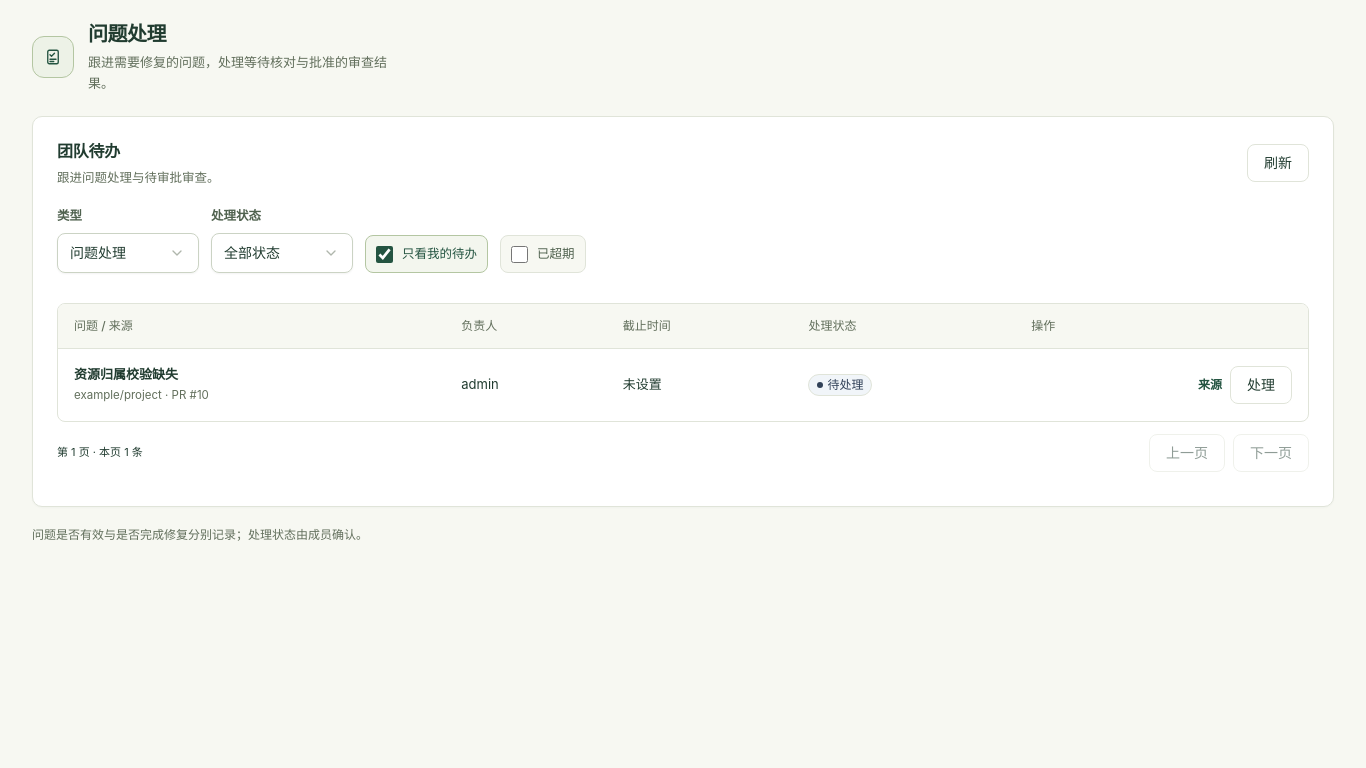
Test case: 工作项冲突保留处理说明和原版本，避免覆盖别人修改
Click the button "处理" at point(1261, 385), box [1230,366,1292,404]
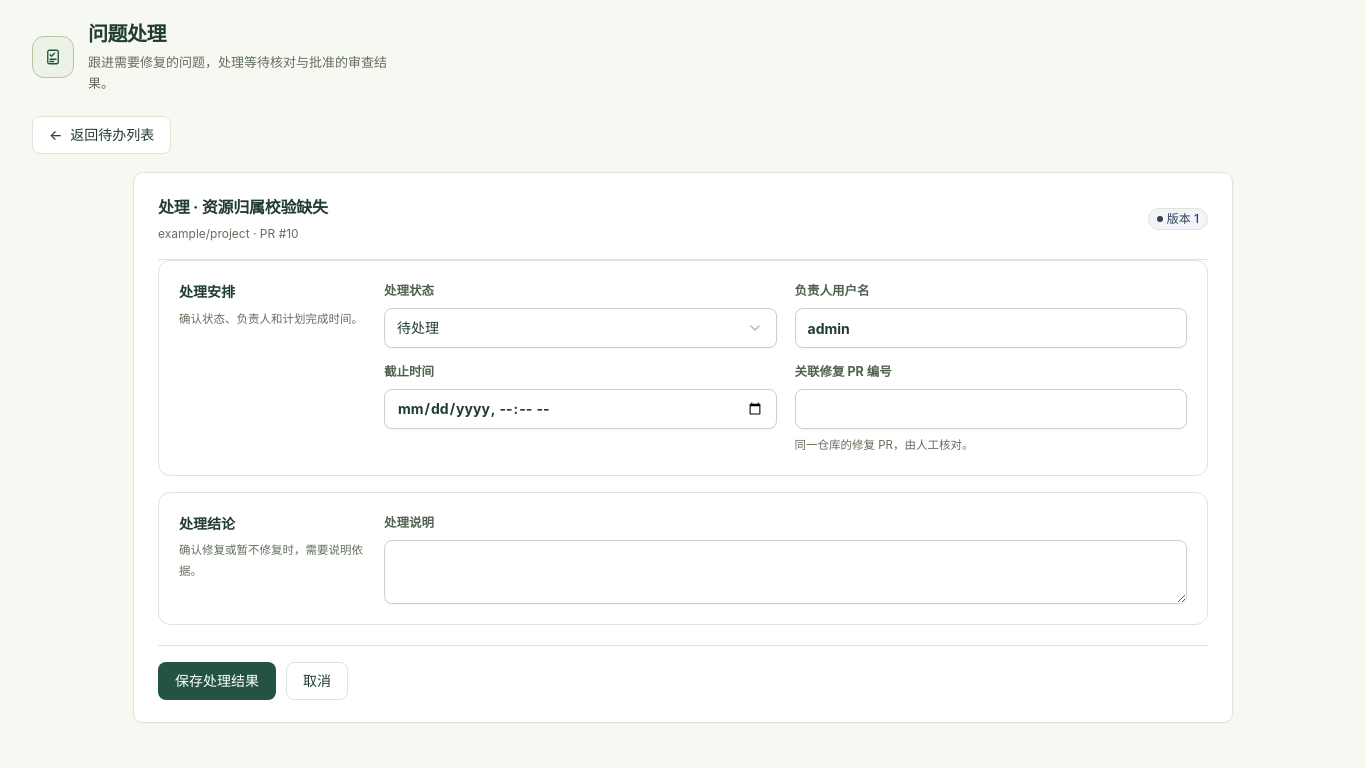
Type "正在核查事务边界" into the text box labelled "处理说明" at point(786, 572), box [384,540,1187,604]
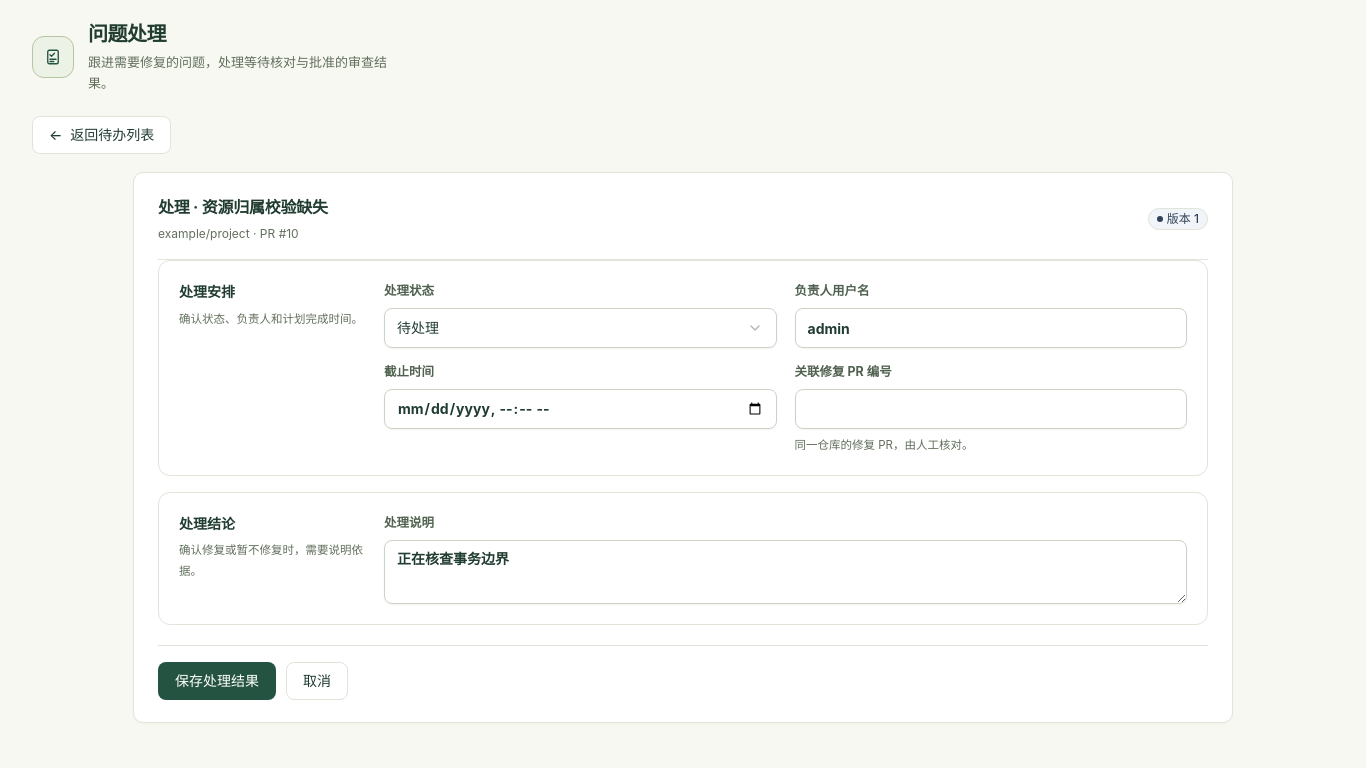
Click the button "保存处理结果" at point(217, 681), box [158,662,276,700]
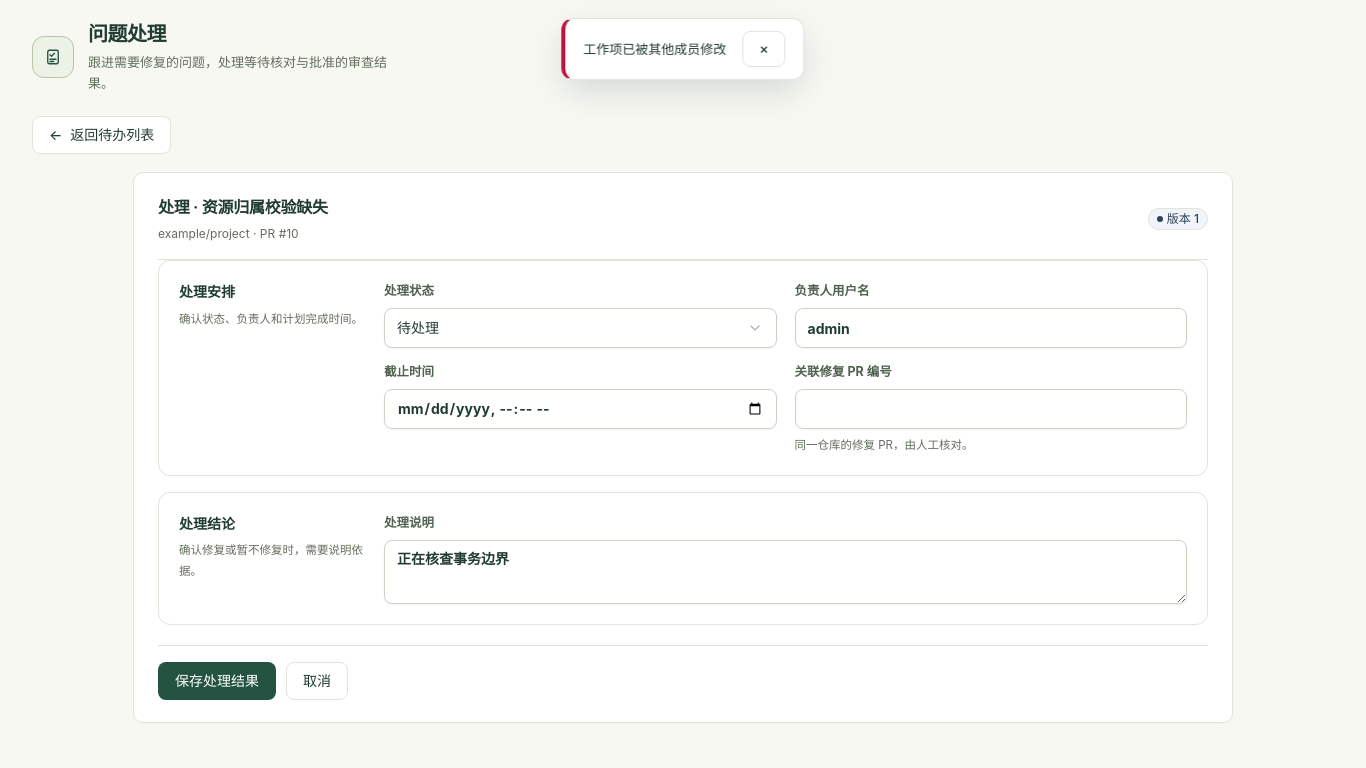
Result: the text "工作项已被其他成员修改" is shown at [583,38,726,60]
